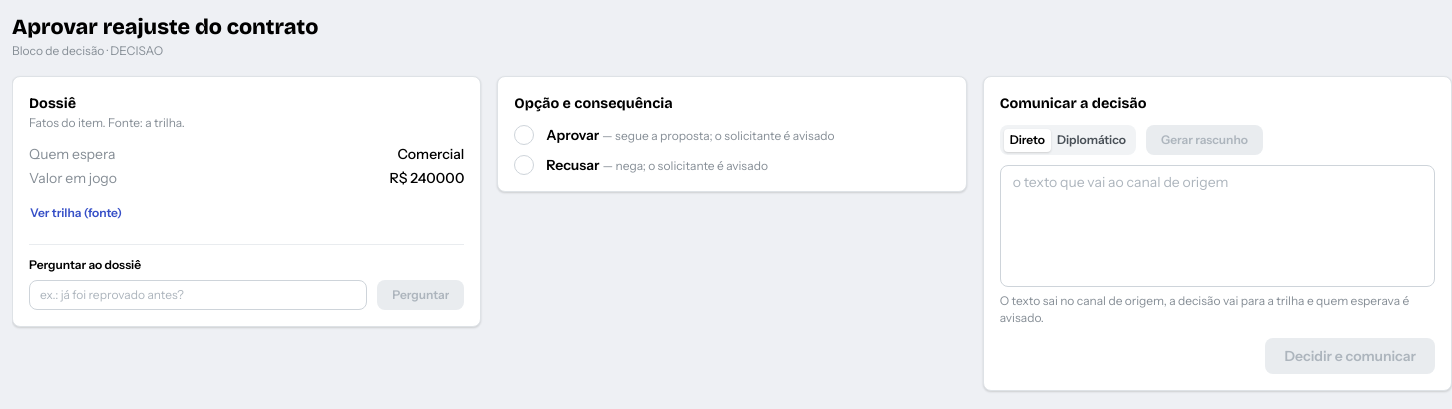
Scenario: bloco de decisão › pergunta ao dossiê e mostra resposta com fonte
The image size is (1452, 409).
Check: the heading "Aprovar reajuste do contrato" is shown, box [12,14,318,40]
Step 1. Type "reprovado antes?" into the field with placeholder "ex.: já foi reprovado antes?" → point(198, 295), box [29,280,367,310]
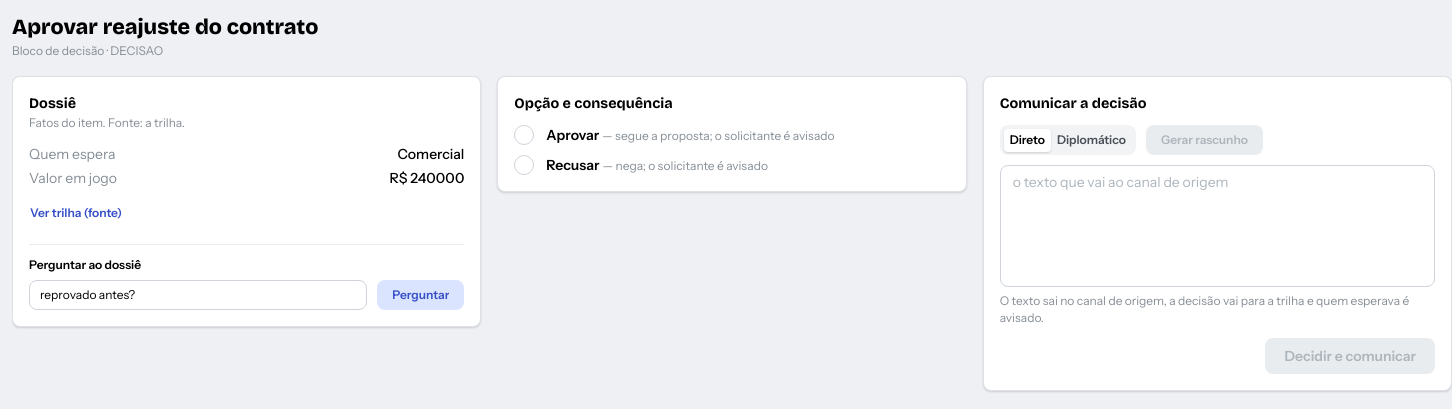
Step 2. Click the button "Perguntar" → point(421, 295), box [377,280,464,310]
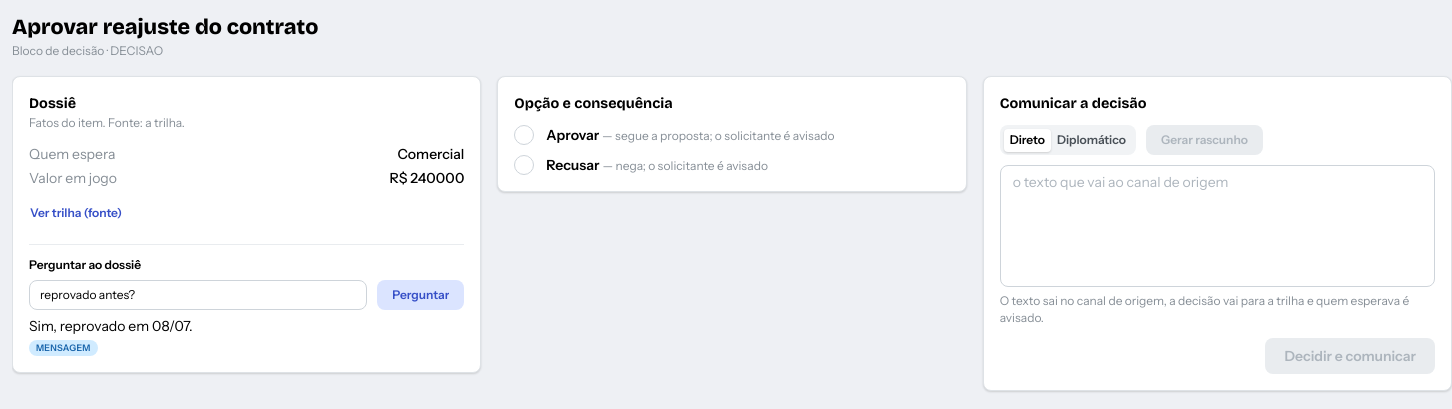
Check: the element with test id "dossie-resposta" is shown, box [29,317,193,356]
Check: the text "Sim, reprovado em 08/07." is shown, box [29,317,193,335]
